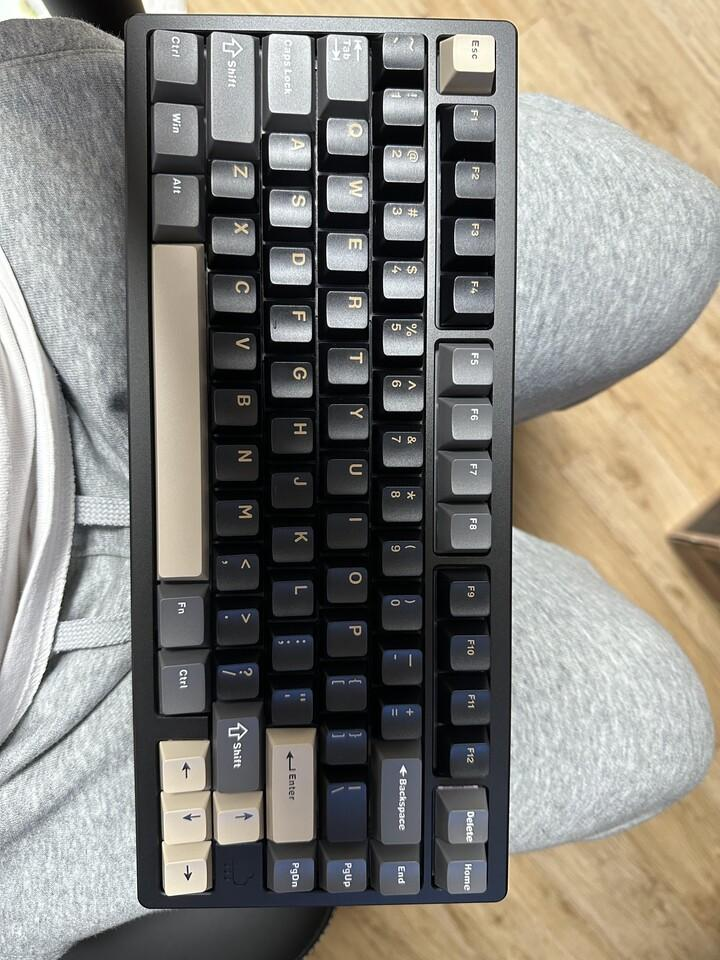keyboard: (123, 13, 517, 909)
